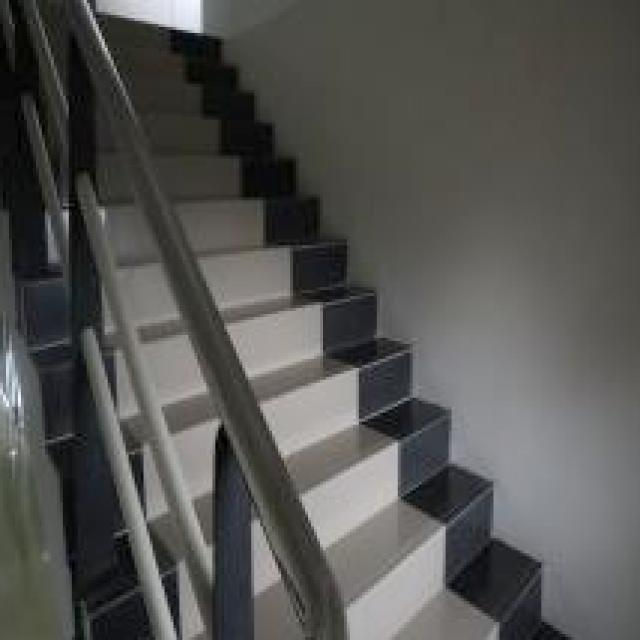upstair: (264, 253, 435, 516)
